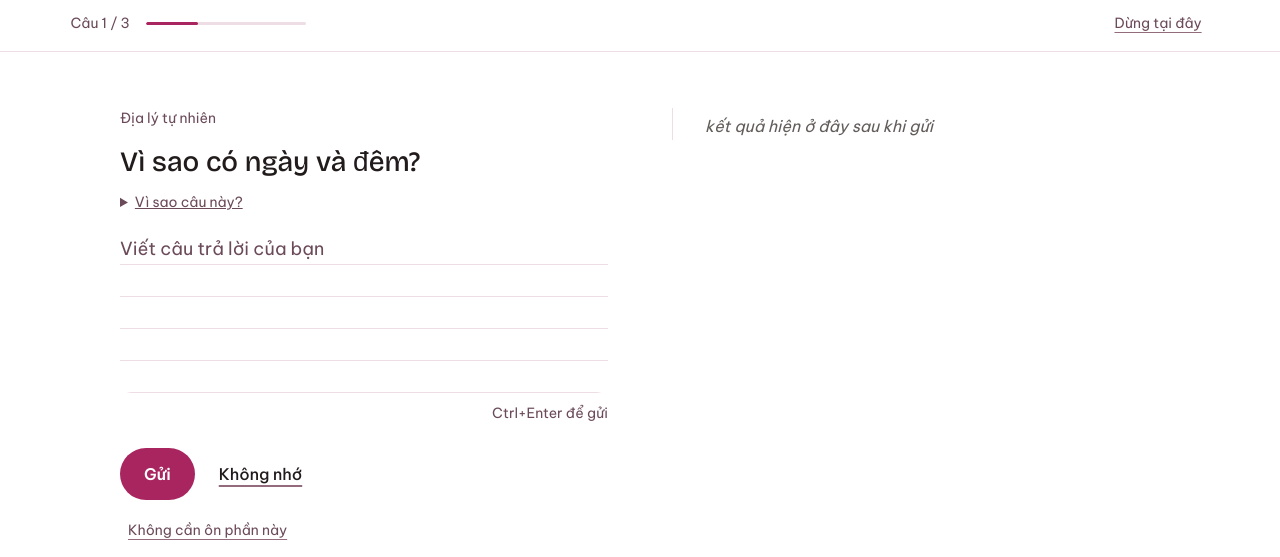
Test case: ReviewScreen (T2.15) › US-04 AC2: Không nhớ submits as forgotten and says so
This screenshot has width=1280, height=557.
Type "nửa chừng" into the text box labelled "câu trả lời của bạn" at (364, 313), box [120, 233, 608, 393]
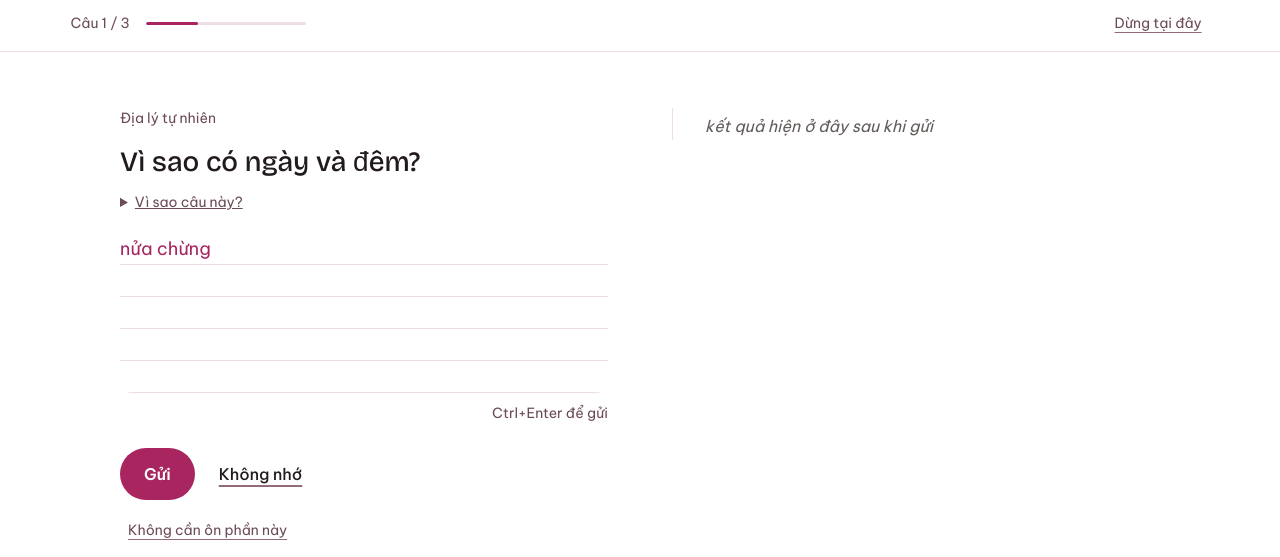
Click the button "Không nhớ" at (261, 474), box [207, 452, 314, 496]
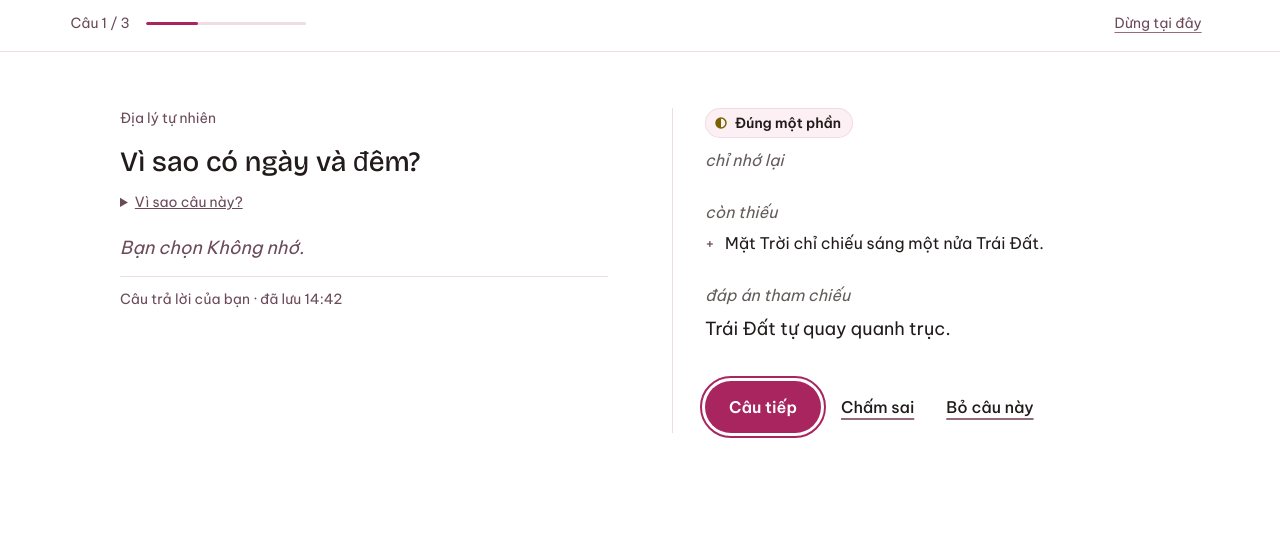
Expected: the text "Bạn chọn Không nhớ." is shown, [120, 236, 304, 259]
